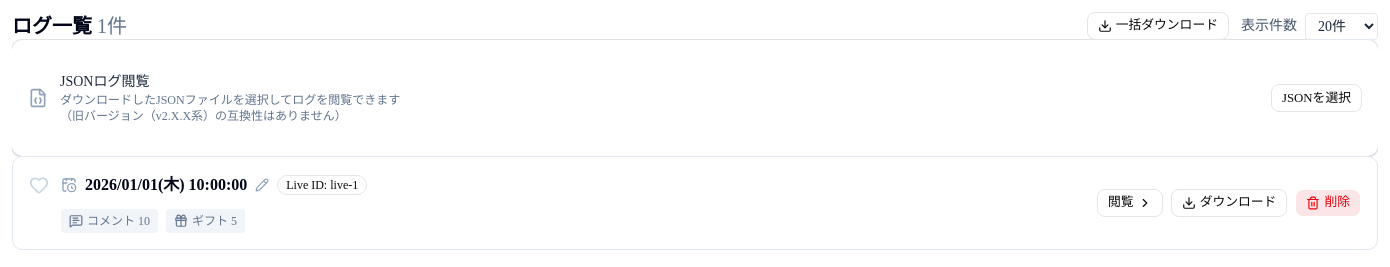
Test: LogListPage › 処理中の表示 › お気に入りの応答待ち中は連打を防ぎ、失敗後は元の状態で再操作できる
The image size is (1390, 267).
Step 1. Click the button named "お気に入りに追加" → [39, 185], box [29,175,49,195]
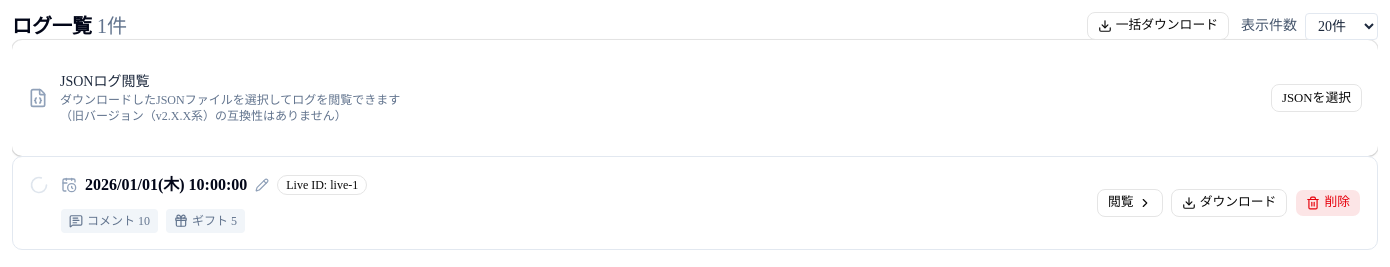
Expected: the button named "お気に入りを更新中..." is disabled
Step 2. Click the button named "お気に入りを更新中..." → [39, 185], box [29,175,49,195]
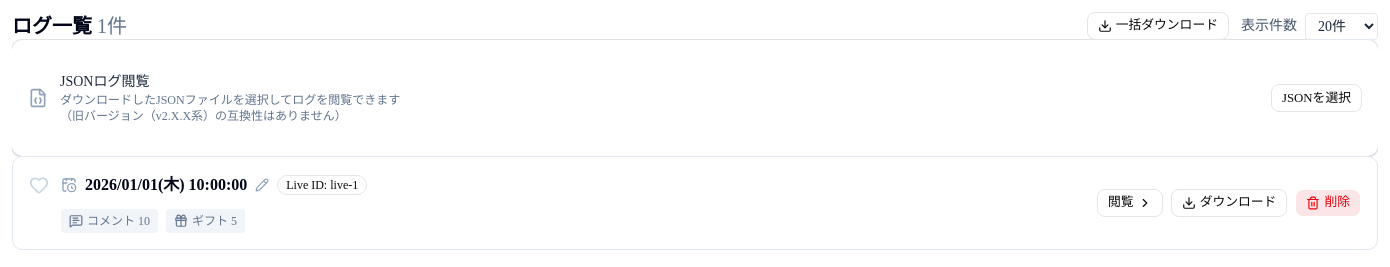
Expected: the button named "お気に入りに追加" is enabled, [29,175,49,195]
